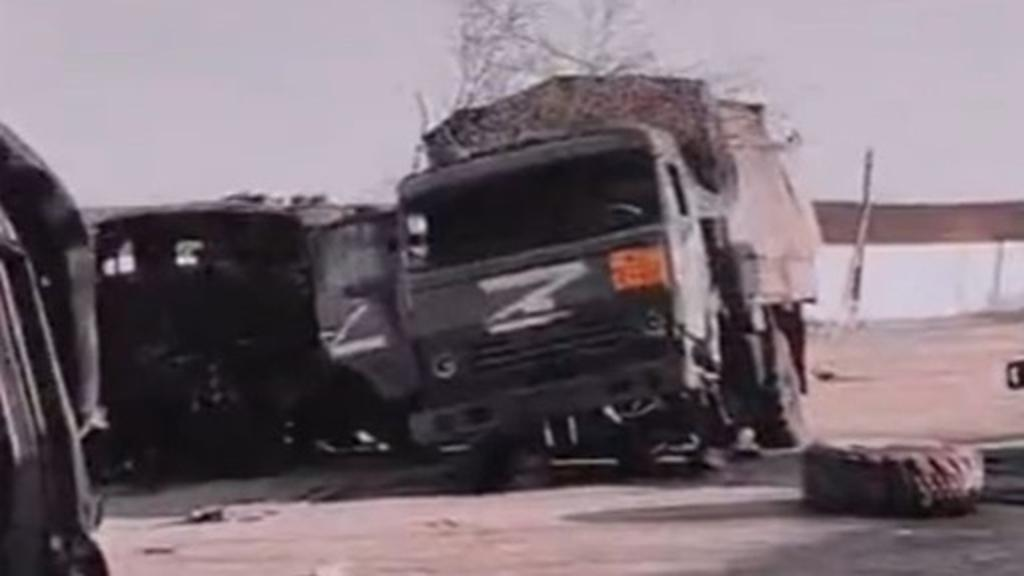TRUCK: (372, 72, 834, 496)
